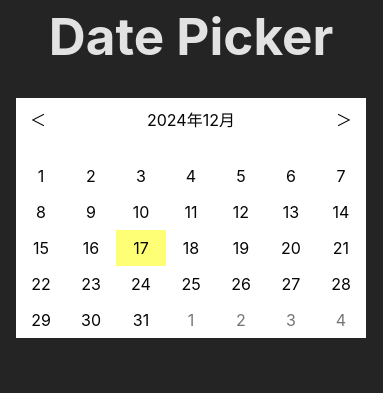
Scenario: A truthy statement › Reset selected date
Click the list item "10" at (141, 212), box [116,194,166,230]
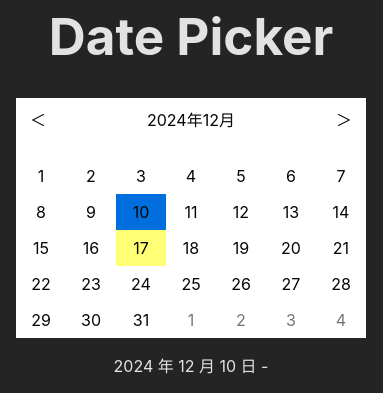
Click the list item "15" at (41, 248), box [16,230,66,266]
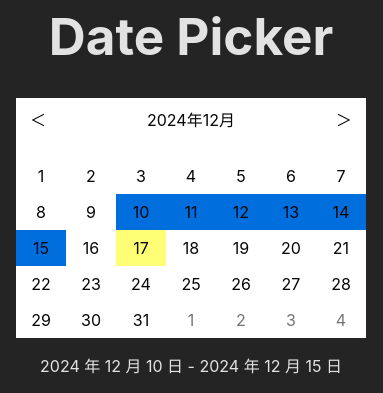
Now the text with test id "date-select-range" reads "2024 年 12 月 10 日 - 2024 年 12 月 15 日", box [40,356,342,376]
Click the list item "13" at (291, 212), box [266,194,316,230]
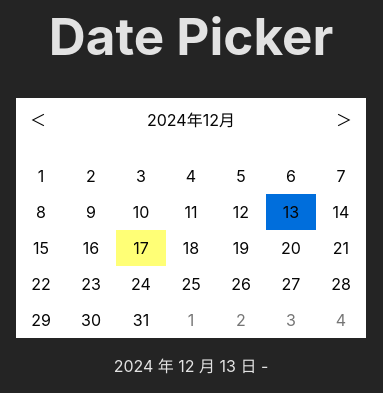
Now the text with test id "date-select-range" reads "2024 年 12 月 13 日 -", box [114,356,268,376]
